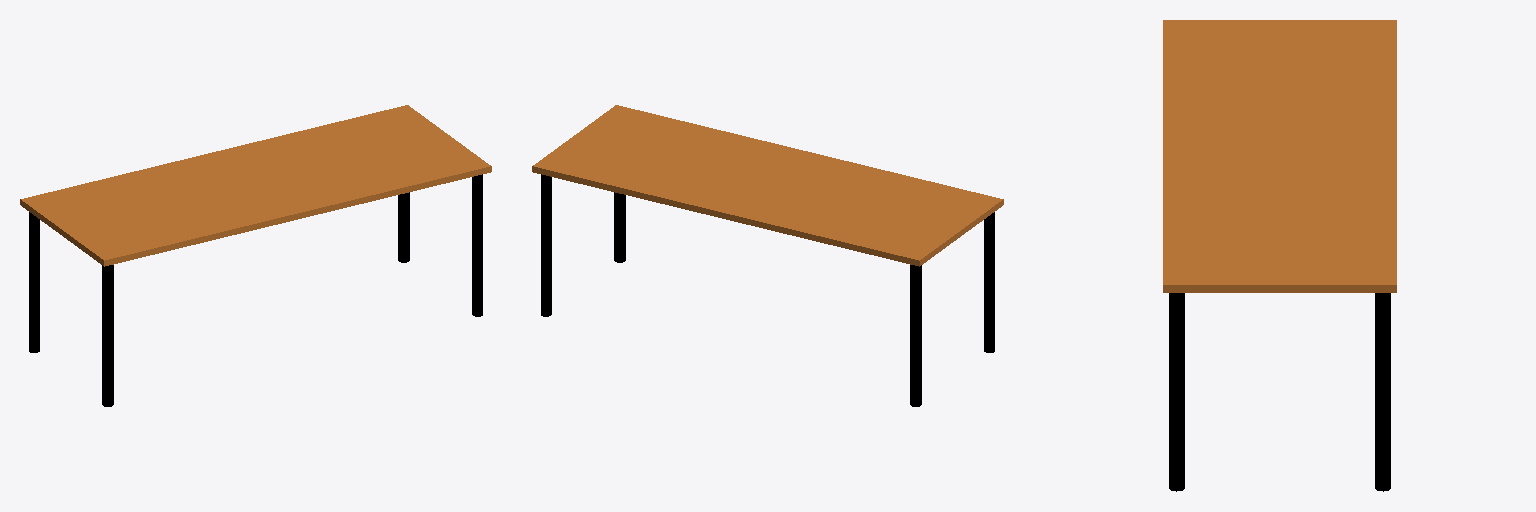
robot.urdf — mesa:
<?xml version="1.0" ?>
<!-- =================================================================================== -->
<!-- |    This document was autogenerated by xacro from mesa.xacro                     | -->
<!-- |    EDITING THIS FILE BY HAND IS NOT RECOMMENDED                                 | -->
<!-- =================================================================================== -->
<robot name="mesa" xmlns:xacro="http://www.ros.org/wiki/xacro">
  <link name="world"/>
  <joint name="mesa" type="floating">
    <parent link="world"/>
    <child link="mesa_link"/>
    <origin rpy="0 0 0" xyz="0 0 0"/>
  </joint>
  <link name="mesa_link">
    <visual>
      <geometry>
        <box size="2 0.75 0.03"/>
      </geometry>
      <origin rpy="0 0 0" xyz="0 0 0.725"/>
      <material name="wood">
        <color rgba="0.803921568627 0.521568627451 0.247058823529 1"/>
      </material>
    </visual>
    <collision>
      <origin rpy="0 0 0" xyz="0 0 0.725"/>
      <geometry>
        <box size="2 0.75 0.03"/>
      </geometry>
    </collision>
    <inertial>
      <origin rpy="0 0 0" xyz="0 0 0.725"/>
      <mass value="5"/>
      <inertia ixx="0.1" ixy="0.0" ixz="0.0" iyy="0.1" iyz="0.0" izz="0.1"/>
    </inertial>
  </link>
  <joint name="pata_1" type="fixed">
    <parent link="mesa_link"/>
    <child link="pata_1_link"/>
    <origin rpy="0 0 0" xyz="0.955 0.33 0"/>
  </joint>
  <link name="pata_1_link">
    <visual>
      <geometry>
        <cylinder length="0.71" radius="0.025"/>
      </geometry>
      <origin rpy="0 0 0" xyz="0 0 0.355"/>
      <material name="black">
        <color rgba="0 0 0 1"/>
      </material>
    </visual>
    <collision>
      <origin rpy="0 0 0" xyz="0 0 0.355"/>
      <geometry>
        <cylinder length="0.71" radius="0.025"/>
      </geometry>
    </collision>
    <inertial>
      <origin rpy="0 0 0" xyz="0 0 0.355"/>
      <mass value="3"/>
      <inertia ixx="0.1" ixy="0.0" ixz="0.0" iyy="0.1" iyz="0.0" izz="0.1"/>
    </inertial>
  </link>
  <joint name="pata_2" type="fixed">
    <parent link="mesa_link"/>
    <child link="pata_2_link"/>
    <origin rpy="0 0 0" xyz="0.955 -0.33 0"/>
  </joint>
  <link name="pata_2_link">
    <visual>
      <geometry>
        <cylinder length="0.71" radius="0.025"/>
      </geometry>
      <origin rpy="0 0 0" xyz="0 0 0.355"/>
      <material name="black">
        <color rgba="0 0 0 1"/>
      </material>
    </visual>
    <collision>
      <origin rpy="0 0 0" xyz="0 0 0.355"/>
      <geometry>
        <cylinder length="0.71" radius="0.025"/>
      </geometry>
    </collision>
    <inertial>
      <origin rpy="0 0 0" xyz="0 0 0.355"/>
      <mass value="3"/>
      <inertia ixx="0.1" ixy="0.0" ixz="0.0" iyy="0.1" iyz="0.0" izz="0.1"/>
    </inertial>
  </link>
  <joint name="pata_3" type="fixed">
    <parent link="mesa_link"/>
    <child link="pata_3_link"/>
    <origin rpy="0 0 0" xyz="-0.955 -0.33 0"/>
  </joint>
  <link name="pata_3_link">
    <visual>
      <geometry>
        <cylinder length="0.71" radius="0.025"/>
      </geometry>
      <origin rpy="0 0 0" xyz="0 0 0.355"/>
      <material name="black">
        <color rgba="0 0 0 1"/>
      </material>
    </visual>
    <collision>
      <origin rpy="0 0 0" xyz="0 0 0.355"/>
      <geometry>
        <cylinder length="0.71" radius="0.025"/>
      </geometry>
    </collision>
    <inertial>
      <origin rpy="0 0 0" xyz="0 0 0.355"/>
      <mass value="3"/>
      <inertia ixx="0.1" ixy="0.0" ixz="0.0" iyy="0.1" iyz="0.0" izz="0.1"/>
    </inertial>
  </link>
  <joint name="pata_4" type="fixed">
    <parent link="mesa_link"/>
    <child link="pata_4_link"/>
    <origin rpy="0 0 0" xyz="-0.955 0.33 0"/>
  </joint>
  <link name="pata_4_link">
    <visual>
      <geometry>
        <cylinder length="0.71" radius="0.025"/>
      </geometry>
      <origin rpy="0 0 0" xyz="0 0 0.355"/>
      <material name="black">
        <color rgba="0 0 0 1"/>
      </material>
    </visual>
    <collision>
      <origin rpy="0 0 0" xyz="0 0 0.355"/>
      <geometry>
        <cylinder length="0.71" radius="0.025"/>
      </geometry>
    </collision>
    <inertial>
      <origin rpy="0 0 0" xyz="0 0 0.355"/>
      <mass value="3"/>
      <inertia ixx="0.1" ixy="0.0" ixz="0.0" iyy="0.1" iyz="0.0" izz="0.1"/>
    </inertial>
  </link>
  <gazebo reference="mesa_link">
    <material>objetos_fer/LightWood</material>
    <mu1>10</mu1>
    <mu2>10</mu2>
    <selfCollide>true</selfCollide>
    <turnGravityOff>false</turnGravityOff>
  </gazebo>
  <gazebo reference="pata_1_link">
    <material>objetos_fer/Black</material>
    <mu1>0.9</mu1>
    <mu2>0.9</mu2>
    <selfCollide>true</selfCollide>
    <turnGravityOff>false</turnGravityOff>
  </gazebo>
  <gazebo reference="pata_2_link">
    <material>objetos_fer/Black</material>
    <mu1>0.9</mu1>
    <mu2>0.9</mu2>
    <selfCollide>true</selfCollide>
    <turnGravityOff>false</turnGravityOff>
  </gazebo>
  <gazebo reference="pata_3_link">
    <material>objetos_fer/Black</material>
    <mu1>0.9</mu1>
    <mu2>0.9</mu2>
    <selfCollide>true</selfCollide>
    <turnGravityOff>false</turnGravityOff>
  </gazebo>
  <gazebo reference="pata_4_link">
    <material>objetos_fer/Black</material>
    <mu1>0.9</mu1>
    <mu2>0.9</mu2>
    <selfCollide>true</selfCollide>
    <turnGravityOff>false</turnGravityOff>
  </gazebo>
</robot>

--- Facts derived from the render (not from the file) ---
The picture shows the robot from 3 angles, left to right: view 1: azimuth 30°, elevation 25°; view 2: azimuth 150°, elevation 25°; view 3: azimuth 270°, elevation 25°; orthographic projection.
Model mesa with 6 links and 5 joints (4 fixed, 1 floating), rooted at world, posed all joints at 0.
Visible links, largest first — view 1: mesa_link, pata_3_link, pata_2_link, pata_4_link, pata_1_link; view 2: mesa_link, pata_4_link, pata_1_link, pata_3_link, pata_2_link; view 3: mesa_link, pata_1_link, pata_2_link.
Boxes of the visible links, x1,y1,x2,y2 form: mesa_link: (20,105,491,266); pata_3_link: (102,265,113,406); pata_2_link: (472,174,482,316); pata_4_link: (29,212,39,352); pata_1_link: (398,192,409,262); mesa_link: (532,105,1003,266); pata_4_link: (910,265,921,406); pata_1_link: (541,174,551,316); pata_3_link: (984,212,994,352); pata_2_link: (614,192,625,262); mesa_link: (1163,20,1396,292); pata_1_link: (1375,293,1390,491); pata_2_link: (1169,293,1184,491).
Bounding box of the posed robot: 2 × 0.75 × 0.74 m (x, y, z).
Geometry: primitives only (box / cylinder / sphere), no mesh files.
